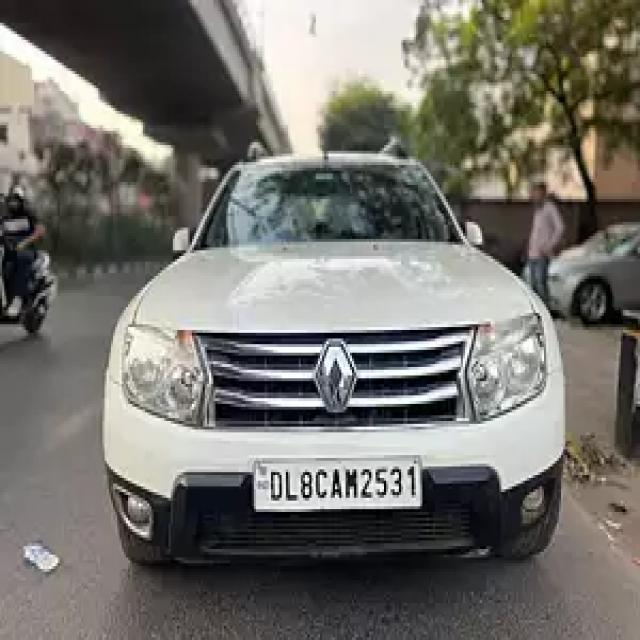plate: (250, 452, 424, 512)
